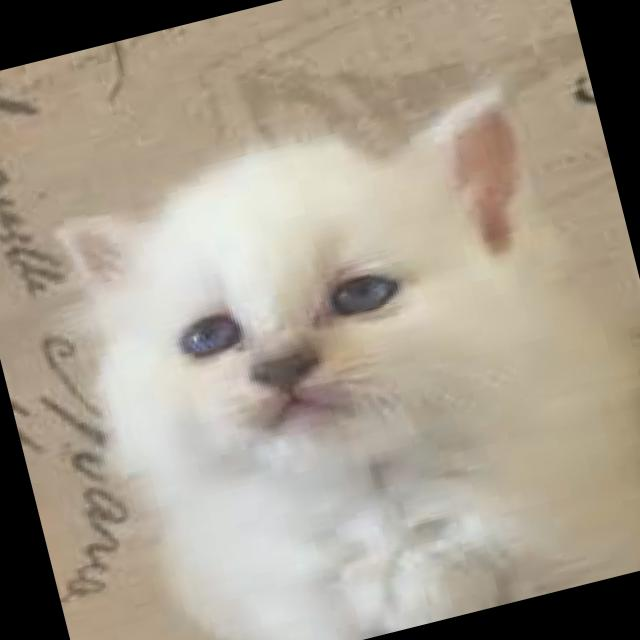animal: (33, 51, 640, 640)
